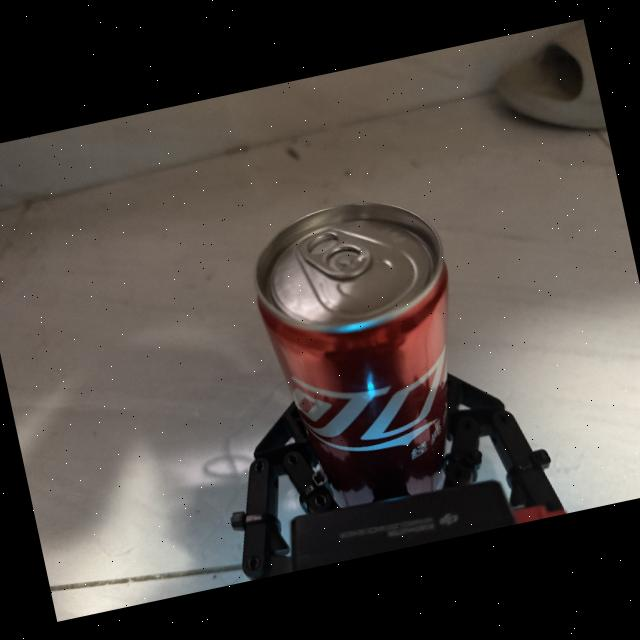Cola: (232, 177, 488, 473)
